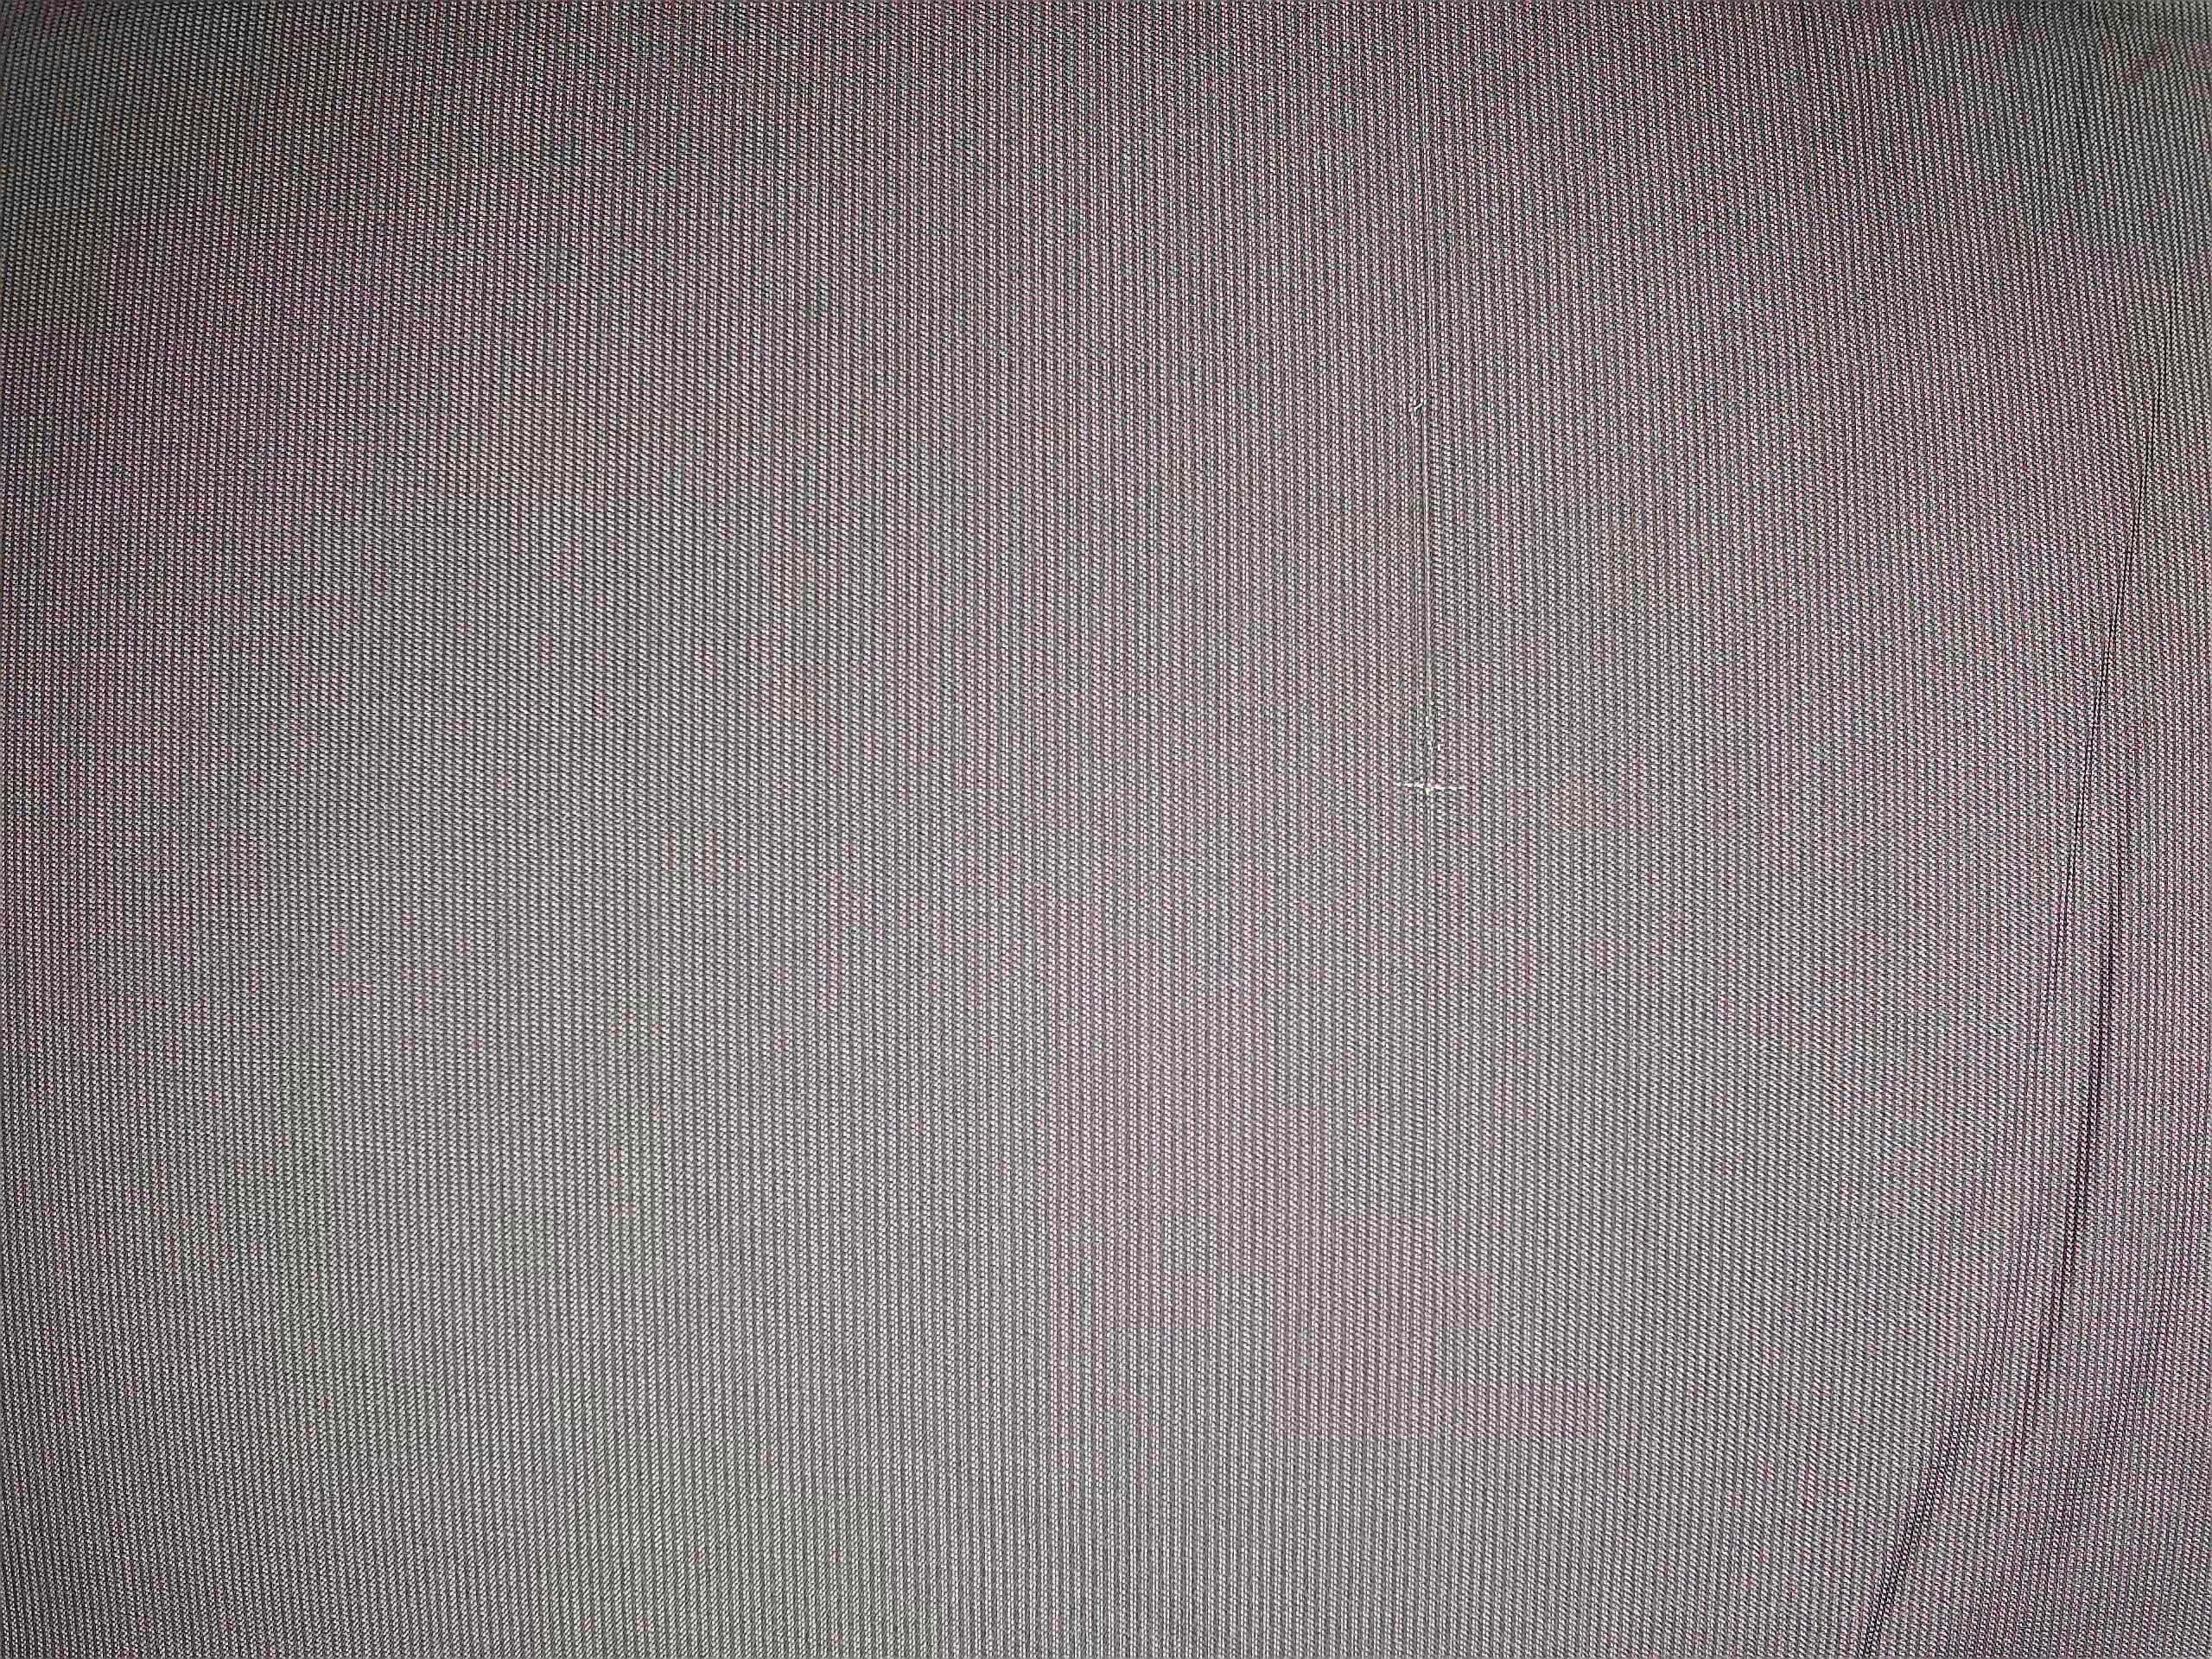hanging-warp: (1378, 366, 1489, 835)
